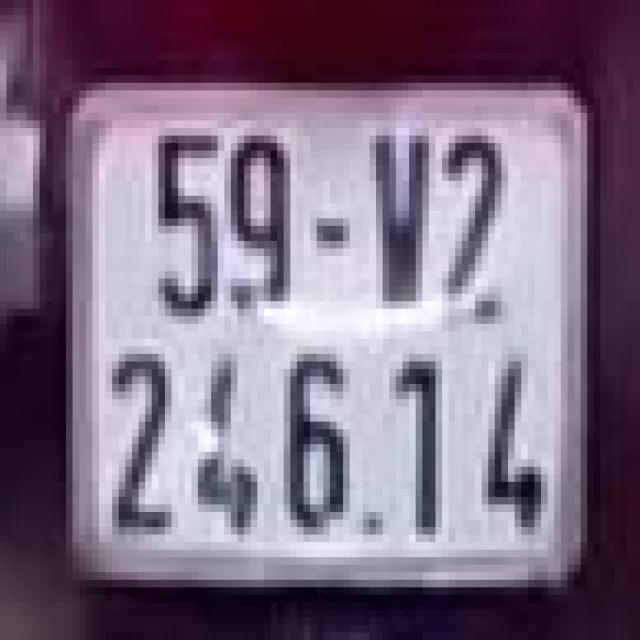1: (376, 335, 455, 553)
2: (102, 339, 182, 542), (442, 120, 515, 332)
4: (188, 335, 267, 546), (482, 354, 560, 550)
5: (138, 120, 231, 332)
6: (277, 346, 363, 534)
9: (224, 128, 304, 324)
V: (356, 120, 436, 324)
